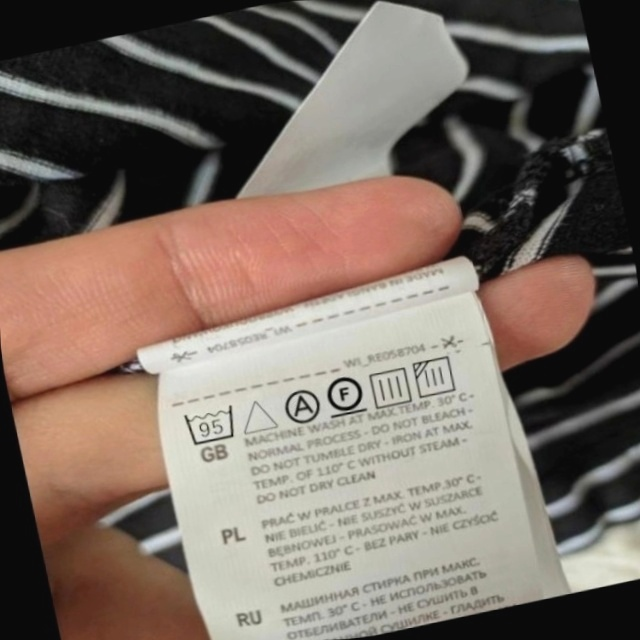95C: (180, 400, 242, 449)
bleach: (237, 391, 279, 439)
drip_dry: (365, 362, 416, 411)
drip_dry_in_shade: (411, 351, 463, 402)
dry_clean: (279, 385, 323, 428)
dry_clean_petrol_only: (322, 368, 369, 420)
